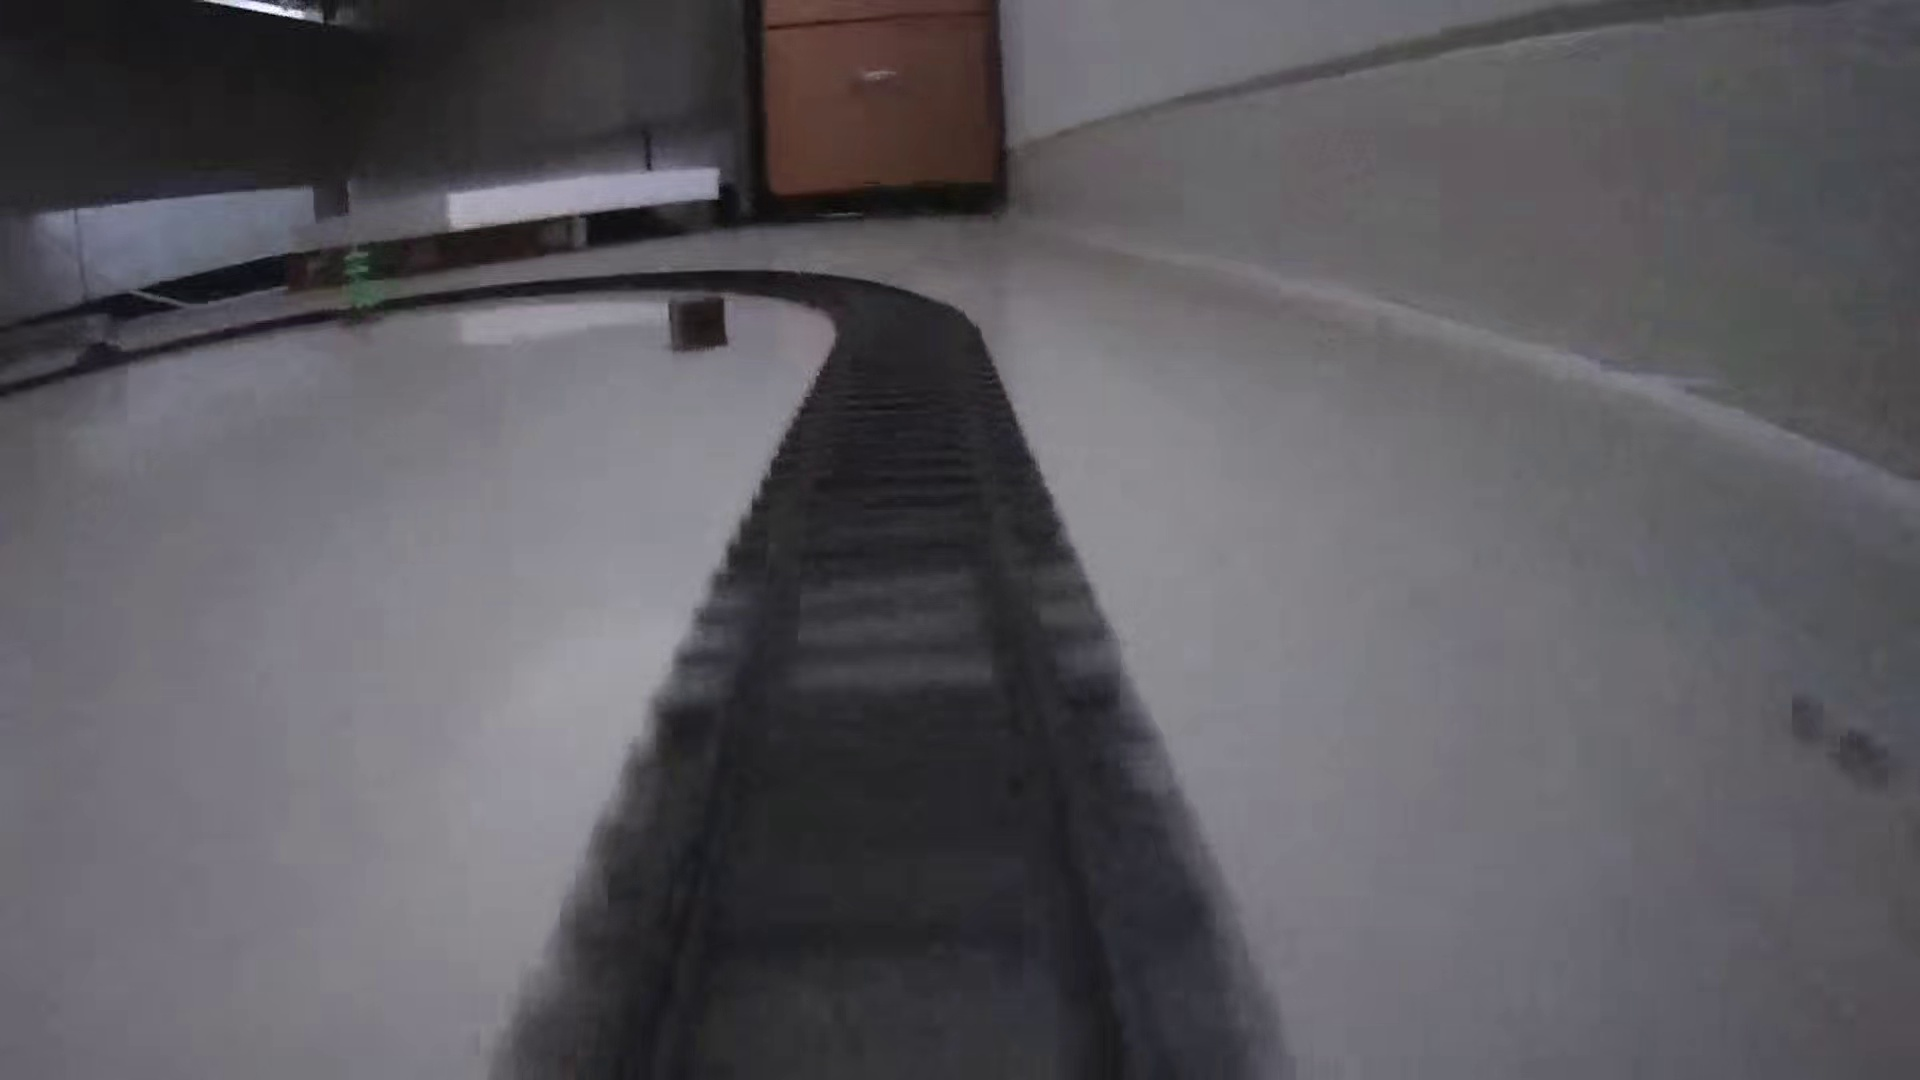box: (662, 290, 731, 358)
tree: (329, 231, 388, 329)
